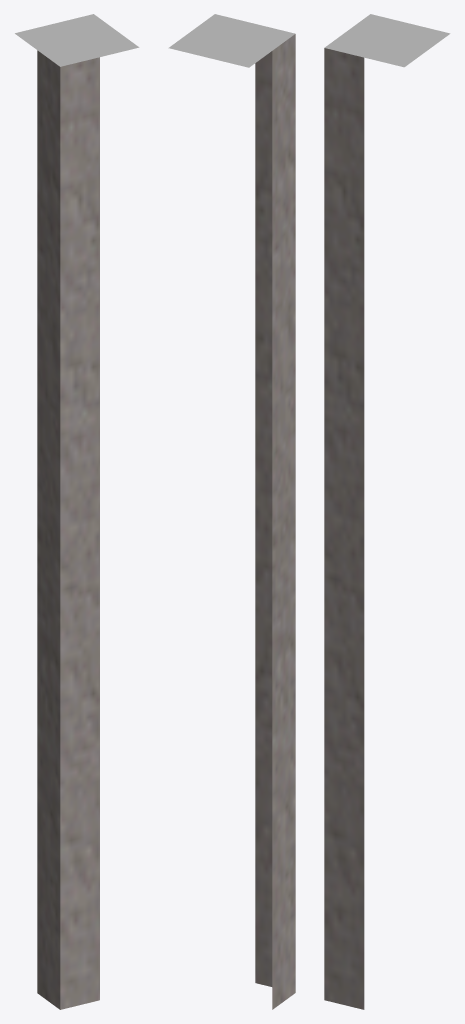
The model's file is W_I__Eckverschluß [Grau]_327.glb.
3 views of the same model, side by side, from view 1: azimuth 30°, elevation 25°; view 2: azimuth 150°, elevation 25°; view 3: azimuth 330°, elevation 25° (orthographic).
Visible parts, largest first — view 1: pPlaneShape7, pPlaneShape11; view 2: pPlaneShape7, pPlaneShape11; view 3: pPlaneShape7, pPlaneShape11.
Part boxes in pixels (x1,y1,x2,y2): pPlaneShape7: [37, 50, 99, 1009]; pPlaneShape11: [15, 14, 139, 66]; pPlaneShape7: [255, 34, 295, 1009]; pPlaneShape11: [168, 14, 295, 67]; pPlaneShape7: [324, 48, 364, 1009]; pPlaneShape11: [324, 14, 450, 67].
Size of the model in its own units: 0.0307 by 0.3486 by 0.0307.
Materials: 2 (1 with a texture image).
